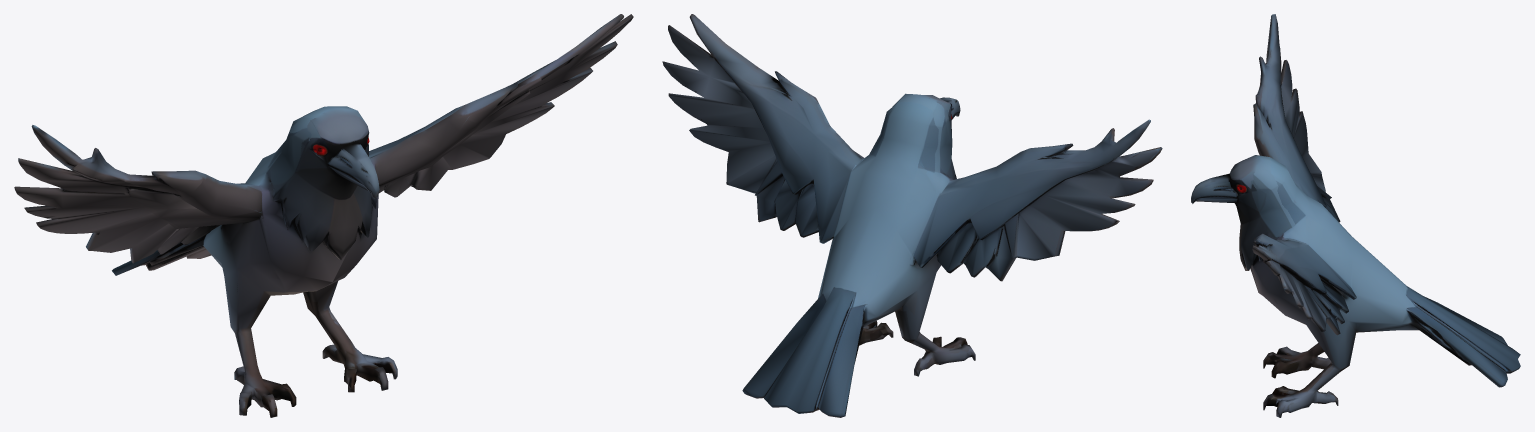
File: crow.fbx
The picture shows the model from 3 angles, left to right: view 1: azimuth 30°, elevation 25°; view 2: azimuth 150°, elevation 25°; view 3: azimuth 270°, elevation 25°; orthographic projection. The views are drawn at different scales.
Parts seen in each view (by area): view 1: crow; view 2: crow; view 3: crow.
Part boxes in pixels (<box>): crow: <box>14,14,633,417</box>; crow: <box>662,14,1162,417</box>; crow: <box>1191,14,1520,417</box>.
Bounding box in the file's own units: 190 × 102 × 115.
1 material, 1 textured.
